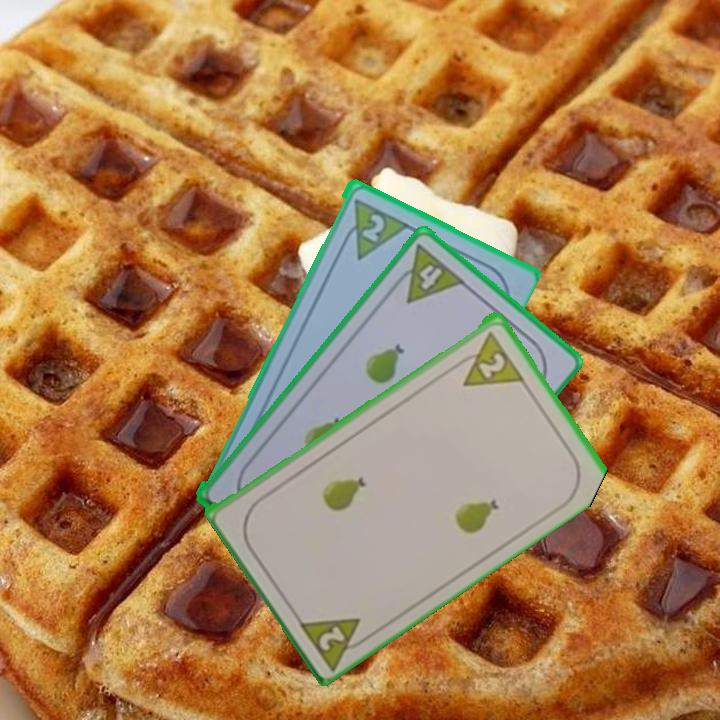2p: (293, 613, 376, 671), (450, 327, 526, 390), (358, 209, 388, 244)
4p: (387, 240, 467, 306)
